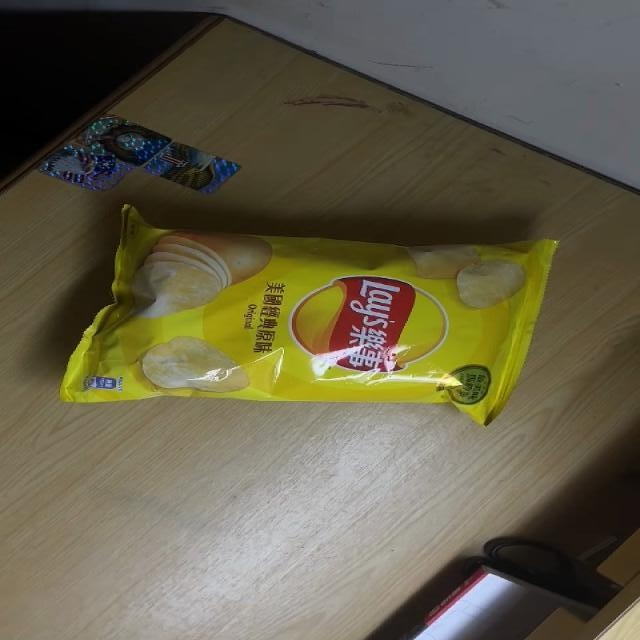Lay-s-original: (58, 201, 560, 427)
